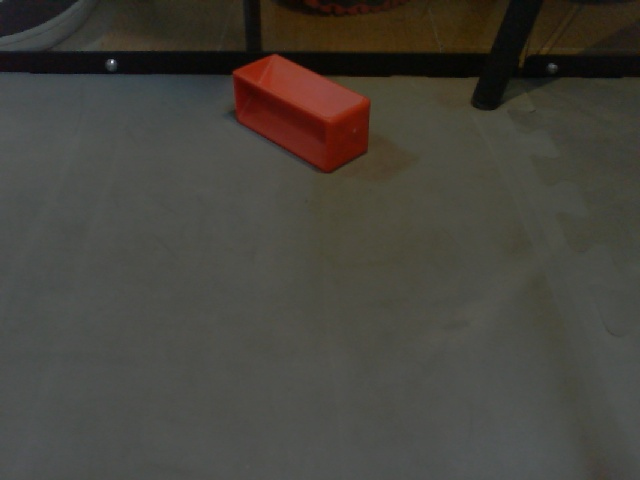RedSample: (230, 51, 372, 176)
